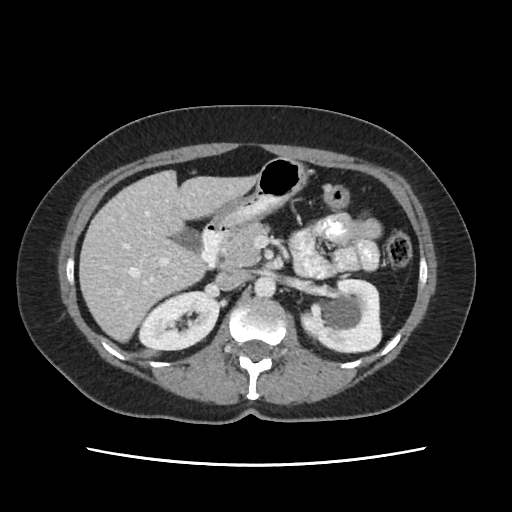Lesion: (318, 288, 369, 332)
